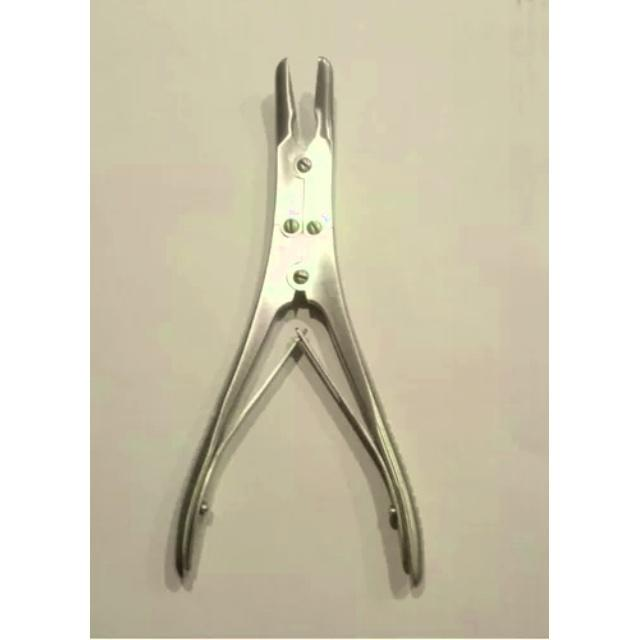gubia: (175, 58, 426, 600)
